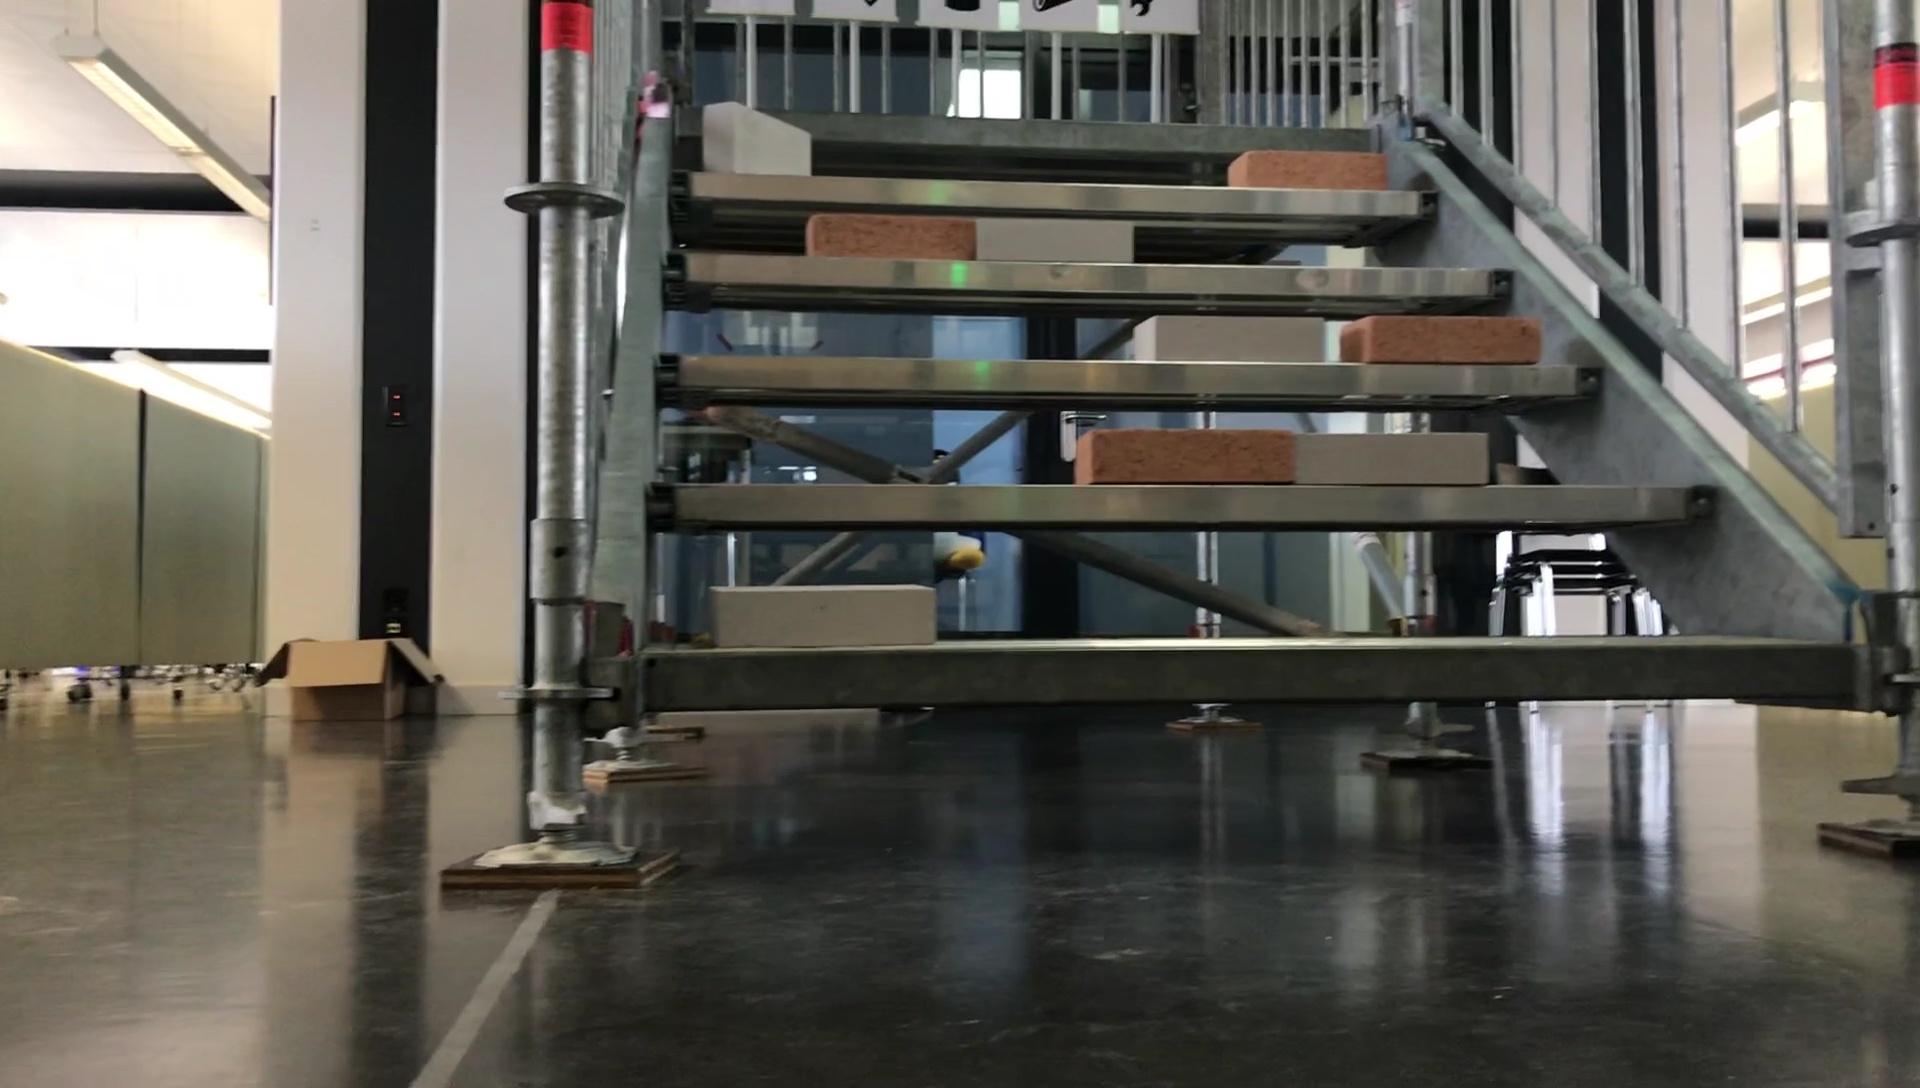brick: (709, 572, 945, 644), (1352, 307, 1547, 373), (1065, 425, 1294, 479), (1288, 430, 1501, 484), (1221, 138, 1402, 193), (1133, 311, 1329, 359), (964, 214, 1137, 266), (691, 104, 810, 175), (803, 210, 964, 261)
edge: (604, 641, 1879, 717), (654, 346, 1622, 400), (647, 473, 1722, 516), (673, 186, 1429, 218), (659, 119, 1389, 138), (651, 268, 1520, 284)
stairs: (520, 0, 1920, 880)
steps: (564, 112, 1913, 732)
